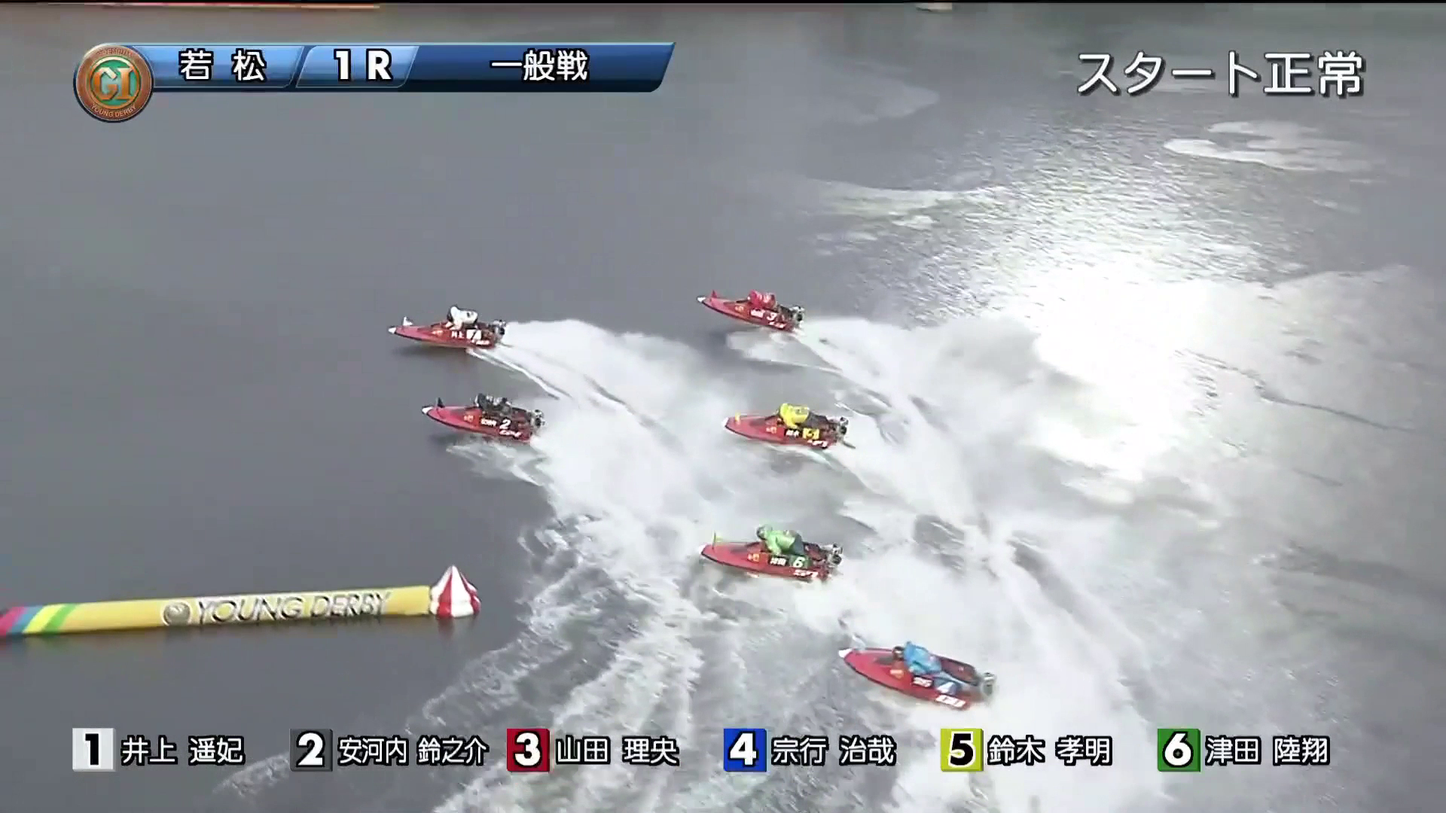１号艇: (429, 284, 499, 337)
２号艇: (425, 370, 554, 431)
３号艇: (728, 270, 825, 321)
４号艇: (727, 510, 861, 575)
５号艇: (865, 652, 988, 707)
６号艇: (741, 357, 841, 437)
